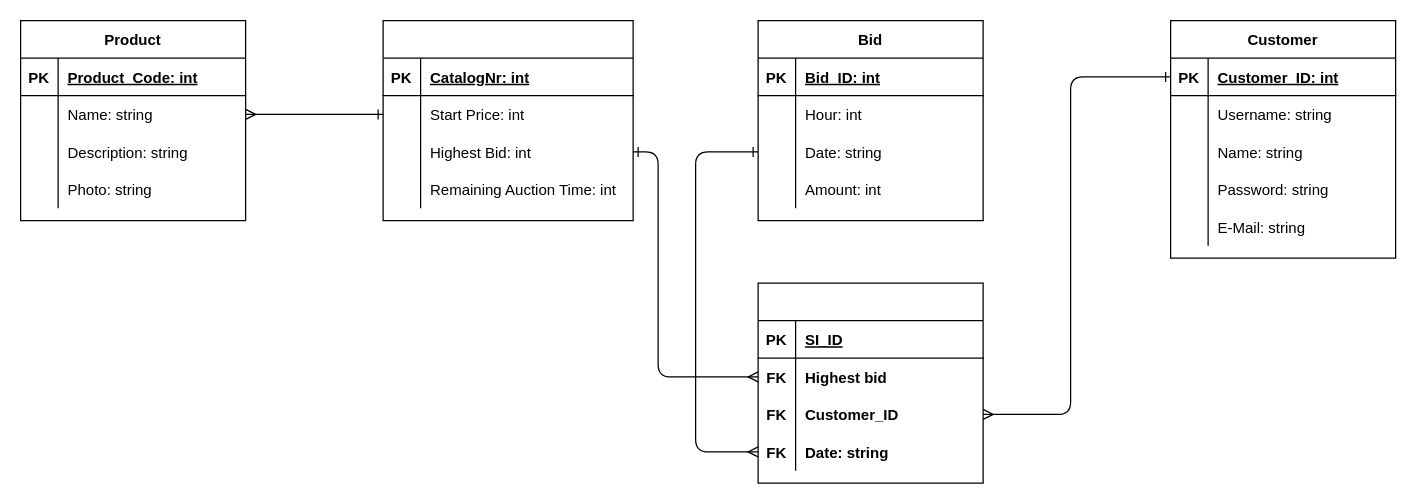
Image size: 1416x504. Some labels were removed from this diagram. Here are the shapes that lost their labels. From the top down, the box of each, then its label:
(382, 19, 633, 221): Set
(757, 282, 983, 483): Sold Items
